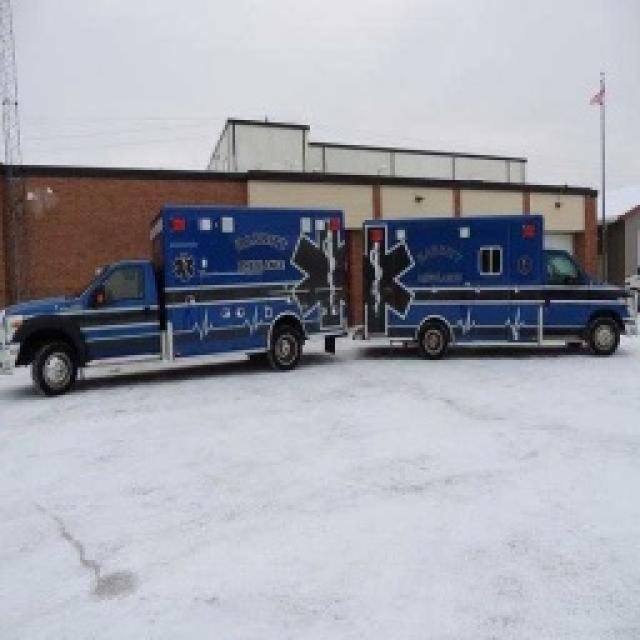emergency-vehicle: (1, 196, 353, 378), (357, 202, 640, 382)
